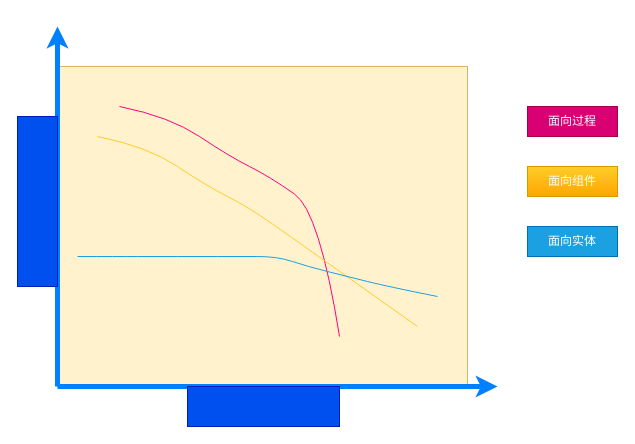
The diagram is 635 pixels wide and 444 high, and some of its shapes have lost their labels. The shapes that lost their labels are listed below. From the top down, each one's centre as x and y in pixels, then its label:
At pixel 37 201: "维护效率".
At pixel 263 406: "功能复杂度".
